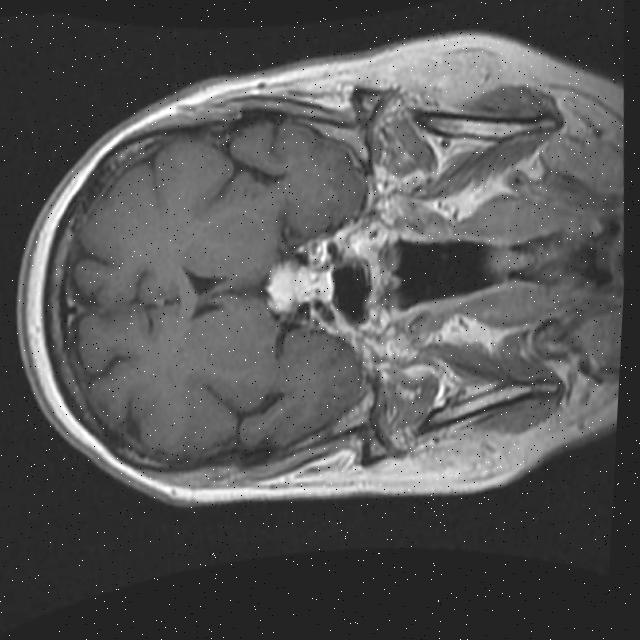Pituitary: (260, 256, 338, 315)
